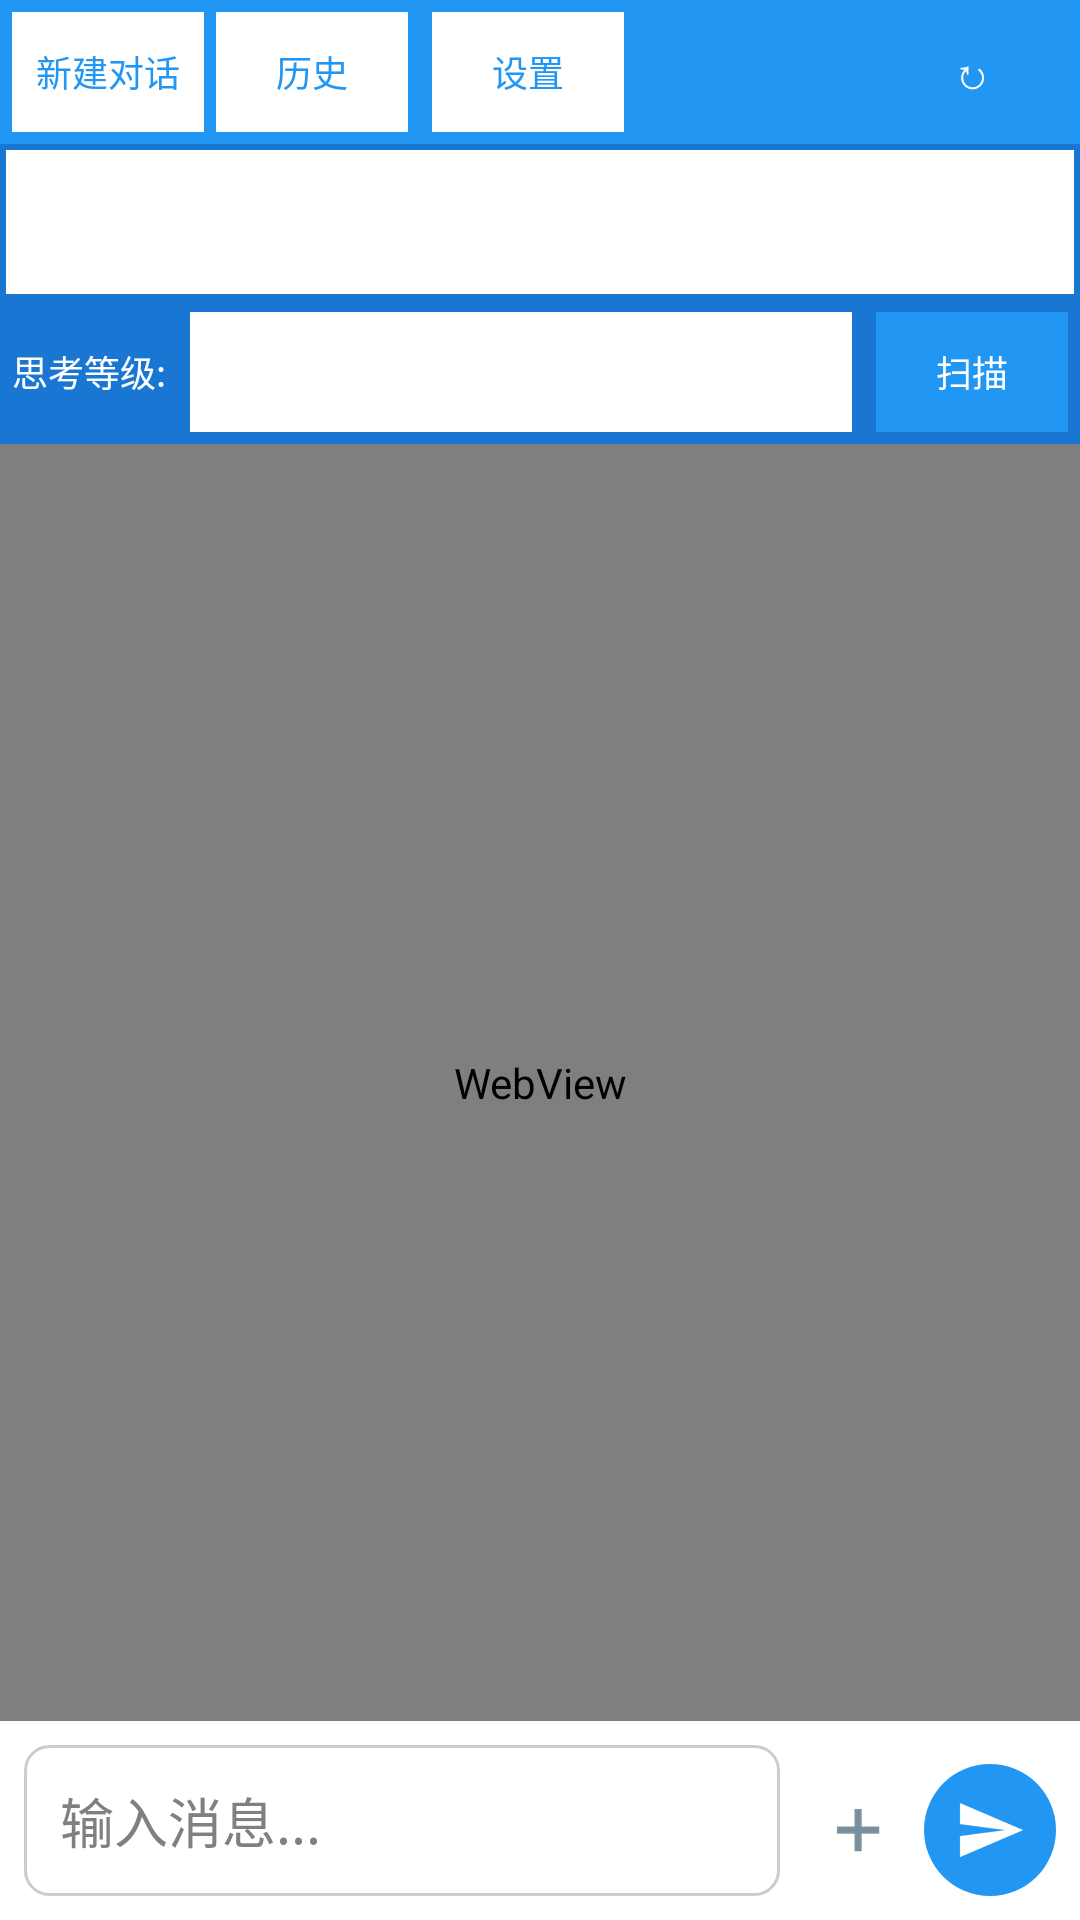

Where to tap for icons on this 1080 × 1920 app screen, as (x,y):
发送: (990,1830)
添加附件: (858,1830)
